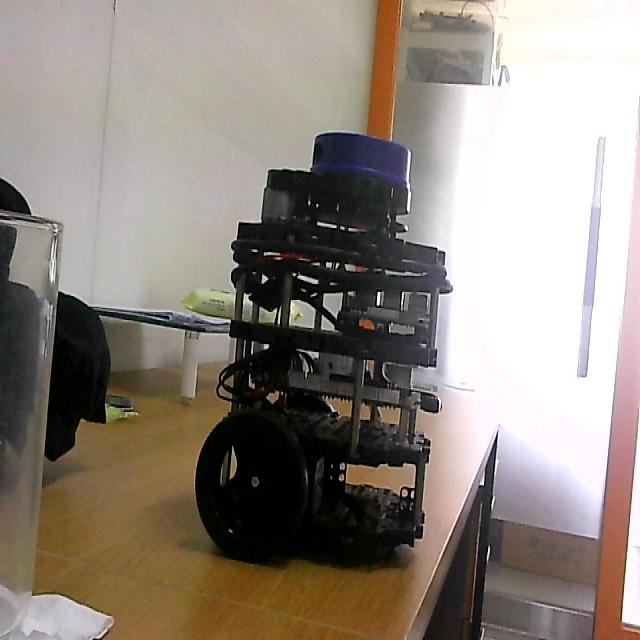turtle: (194, 128, 456, 569)
